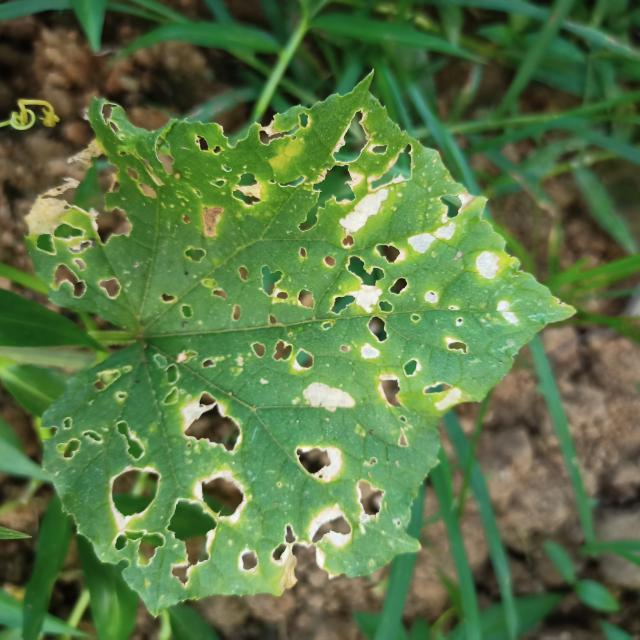disease_cucumber: (35, 131, 501, 573)
